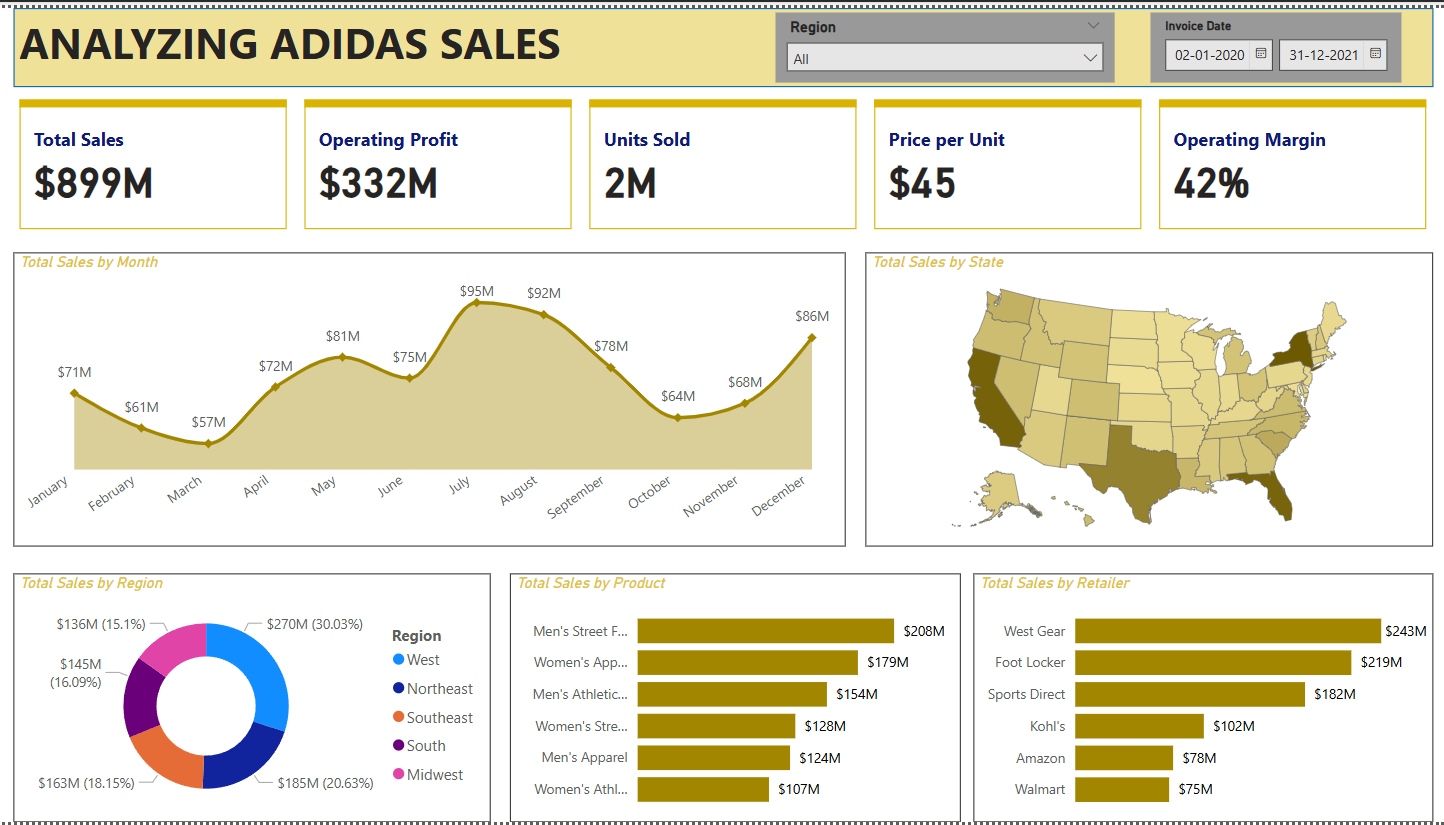

Layout of this report page (visuals, bound fields, positions):
{"tool":"powerbi","page":{"name":"Page 1","canvas":[1280,720],"ordinal":0},"visuals":[{"type":"shape","box":[12,0,1256,70],"z":0},{"type":"textbox","box":[12,0,522,76],"z":1000},{"type":"cardVisual","fields":{"Data":["Sum(Data Sales Adidas.Total Sales)","Sum(Data Sales Adidas.Operating Profit)","Sum(Data Sales Adidas.Units Sold)","Avg(Data Sales Adidas.Price per Unit)","Avg(Data Sales Adidas.Operating Margin)"]},"box":[12,76,1256,125],"z":2000},{"type":"areaChart","title":"Total Sales by Month","fields":{"Category":["Data Sales Adidas.Invoice Date.Variation.Date Hierarchy.Month"],"Y":["Sum(Data Sales Adidas.Total Sales)"]},"box":[12,216,736,260],"z":3000},{"type":"shapeMap","title":"Total Sales by State","fields":{"Category":["Data Sales Adidas.State"],"Value":["Sum(Data Sales Adidas.Total Sales)"]},"box":[766,216,502,260],"z":4000},{"type":"donutChart","title":"Total Sales by Region","fields":{"Category":["Data Sales Adidas.Region"],"Y":["Sum(Data Sales Adidas.Total Sales)"]},"box":[12,500,422,220],"z":5000},{"type":"barChart","title":"Total Sales by Product","fields":{"Category":["Data Sales Adidas.Product"],"Y":["Sum(Data Sales Adidas.Total Sales)"]},"box":[451.7,500,398.3,220],"z":6000},{"type":"barChart","title":"Total Sales by Retailer","fields":{"Y":["Sum(Data Sales Adidas.Total Sales)"],"Category":["Data Sales Adidas.Retailer"]},"box":[861.7,500,406.7,220],"z":7000},{"type":"slicer","fields":{"Values":["Data Sales Adidas.Region"]},"box":[686,4,300,62],"z":8000},{"type":"slicer","fields":{"Values":["Data Sales Adidas.Invoice Date"]},"box":[1018,4,222,62],"z":9000}]}

Visuals, with their boxes in screenshot pixels (x1, y1, x2, y2), scaled from the page's 1280x720 canvas onto the 1444x825 screenshot:
shape: box(14, 0, 1430, 80)
textbox: box(14, 0, 602, 87)
cardVisual - Sum(Data Sales Adidas.Total Sales) x Sum(Data Sales Adidas.Operating Profit): box(14, 87, 1430, 230)
"Total Sales by Month" areaChart: box(14, 247, 844, 545)
"Total Sales by State" shapeMap: box(864, 247, 1430, 545)
"Total Sales by Region" donutChart: box(14, 573, 490, 824)
"Total Sales by Product" barChart: box(510, 573, 959, 824)
"Total Sales by Retailer" barChart: box(972, 573, 1431, 824)
slicer - Data Sales Adidas.Region: box(774, 5, 1112, 76)
slicer - Data Sales Adidas.Invoice Date: box(1148, 5, 1399, 76)
